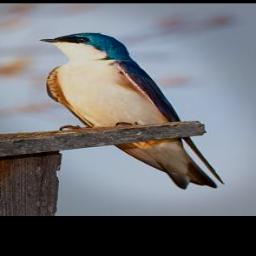Swallow: (38, 32, 227, 190)
